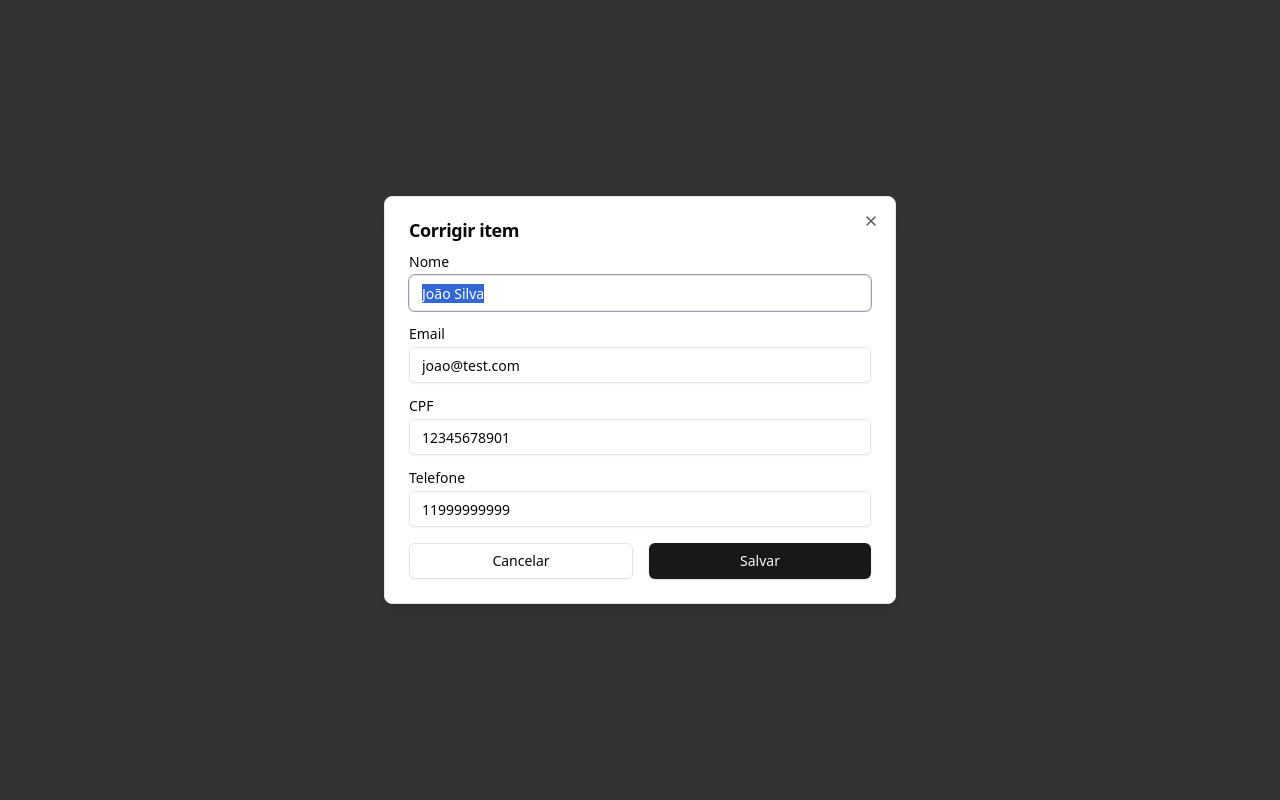
EditItemModal › exibe estado de sucesso quando API retorna PROCESSED
Click the button "Salvar" at (760, 561), box [649, 543, 871, 579]
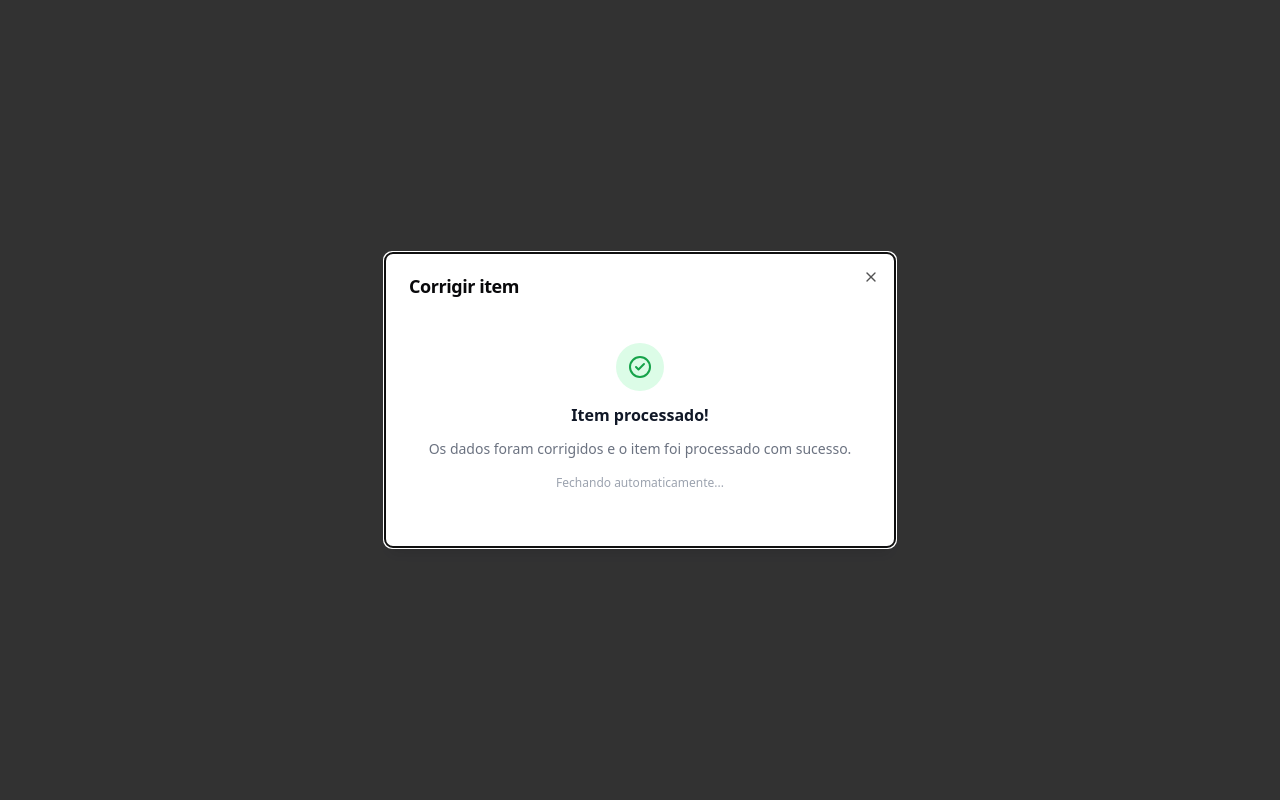
Now the text "Item processado!" is shown, box [571, 403, 709, 427]
Now the text "processado com sucesso" is shown, box [429, 439, 851, 458]
Now the text "Fechando automaticamente..." is shown, box [556, 475, 724, 491]
